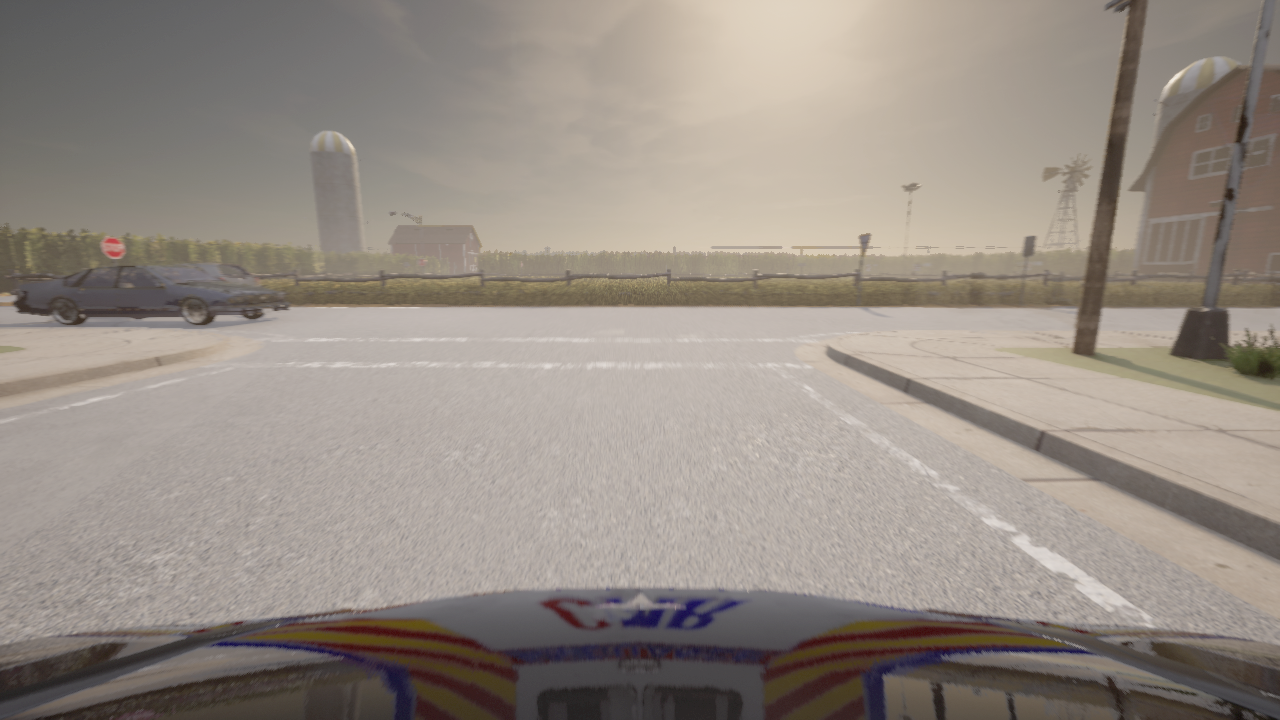cyclist: (0, 588, 1279, 719), (13, 265, 289, 325), (170, 263, 260, 286), (78, 269, 84, 271)
